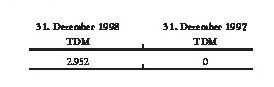table: (0, 0, 274, 87)
